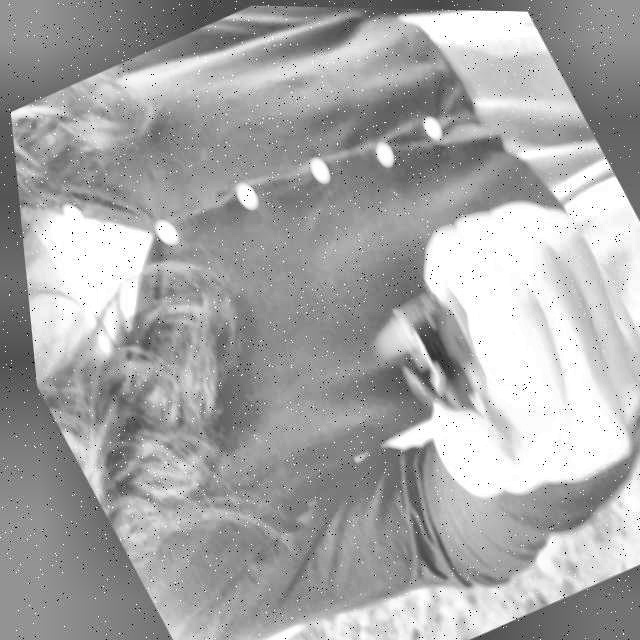Fire: (354, 309, 415, 366)
